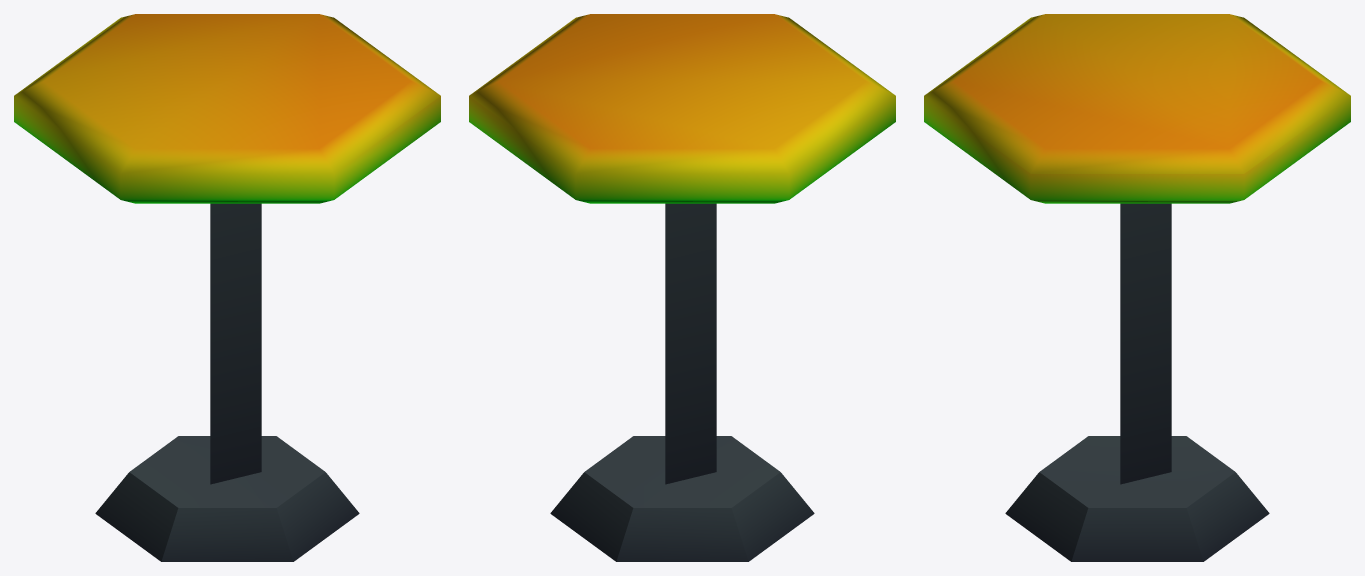
Rendered from bar2.fbx.
3 views of the same model, side by side, from view 1: azimuth 30°, elevation 25°; view 2: azimuth 150°, elevation 25°; view 3: azimuth 270°, elevation 25° (orthographic).
Visible parts, largest first — view 1: Cylinder.013; view 2: Cylinder.013; view 3: Cylinder.013.
Boxes of the visible parts, x1,y1,x2,y2 form: Cylinder.013: (14, 14, 440, 561); Cylinder.013: (469, 14, 895, 561); Cylinder.013: (924, 14, 1350, 561).
Size of the model in its own units: 119 by 154 by 138.
